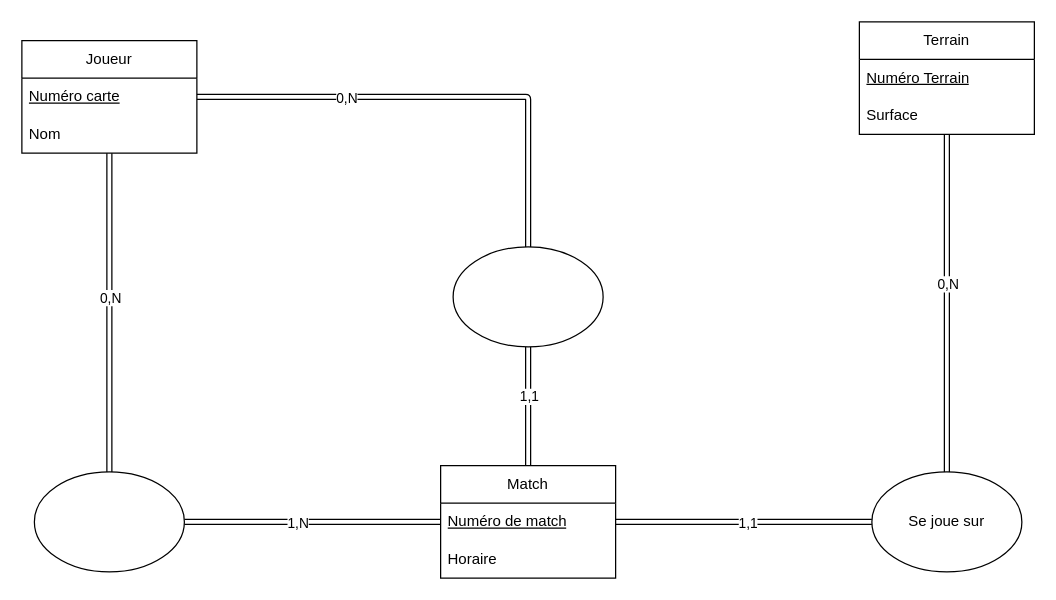
The diagram is 1056 pixels wide and 600 high, and some of its shapes have lost their labels. Here are the shapes that lost their labels. From the top down, the centre of each, then its label:
the point at 527,296: Gagne Score
the point at 108,521: Participe
